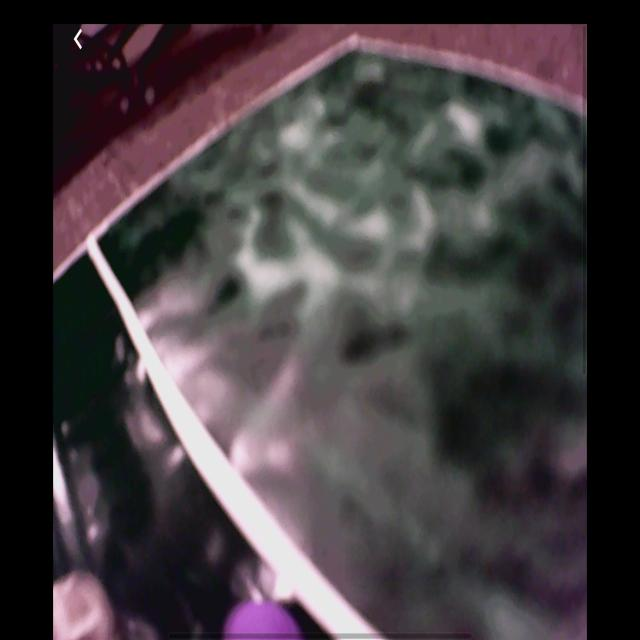ball: (229, 603, 296, 640)
